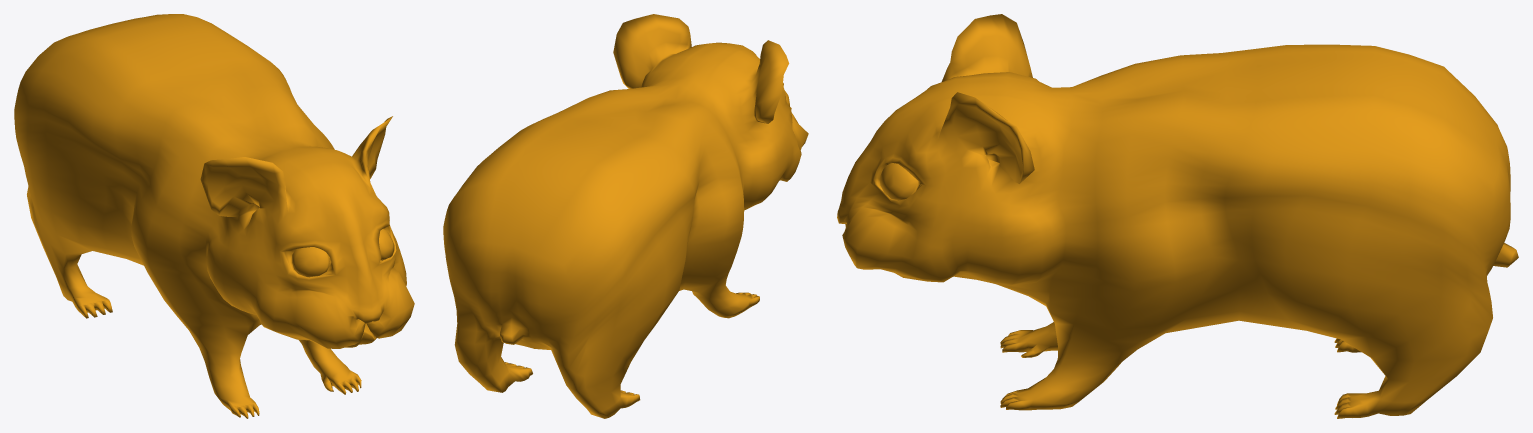
Rendered from Humster.fbx.
The picture shows the model from 3 angles, left to right: view 1: azimuth 30°, elevation 25°; view 2: azimuth 150°, elevation 25°; view 3: azimuth 270°, elevation 25°; orthographic projection. The views are drawn at different scales.
Parts seen in each view (by area): view 1: Cube.004_Cube.007; view 2: Cube.004_Cube.007; view 3: Cube.004_Cube.007.
Part boxes in pixels (box(x1,y1,x2,y2)): Cube.004_Cube.007: box(14, 14, 414, 418); Cube.004_Cube.007: box(443, 14, 808, 418); Cube.004_Cube.007: box(837, 14, 1518, 418).
Size of the model in its own units: 414 by 519 by 998.
